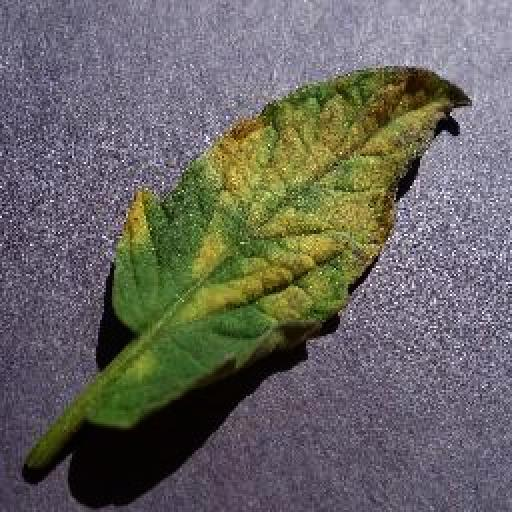disease_tomato: (88, 62, 474, 430)
